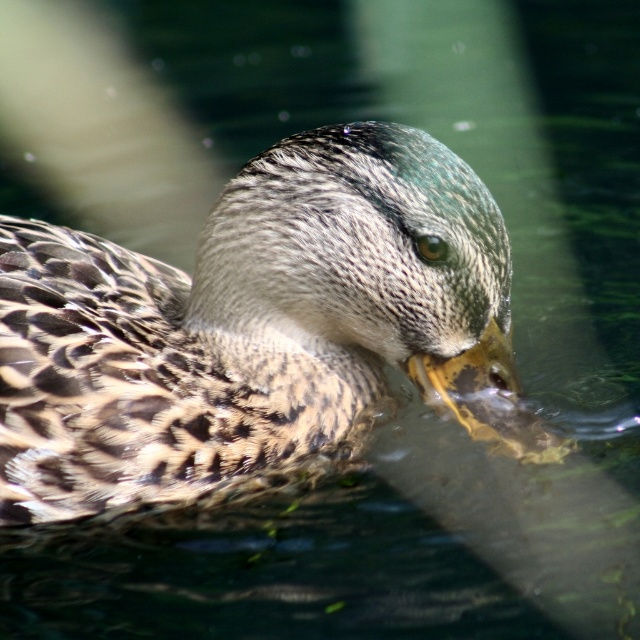Duck: (51, 117, 559, 529)
